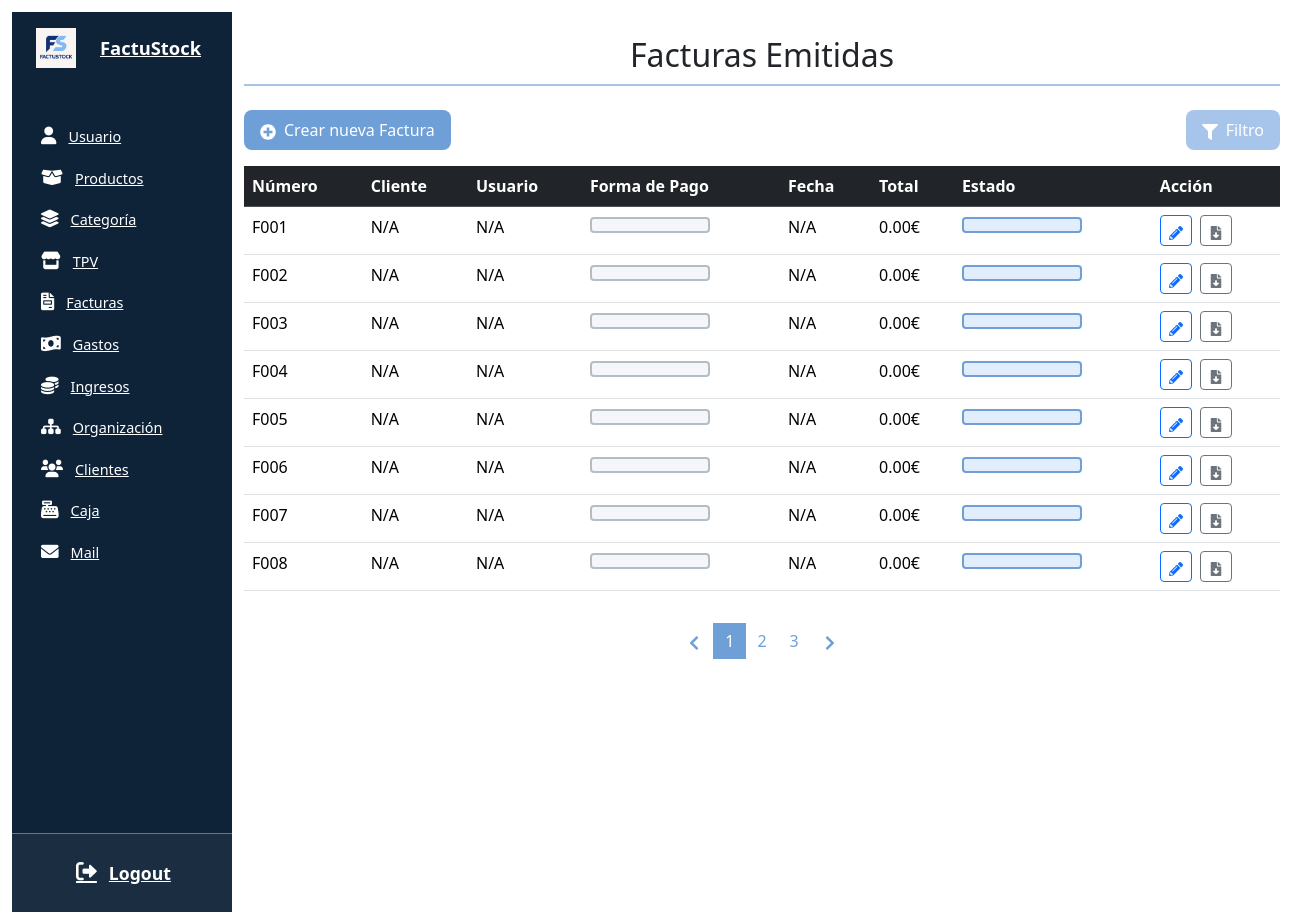
Test: FacturaComponent › handles pagination
expect the text "F001" is shown: met, box [244, 207, 363, 255]
Click the button "2".
click(762, 641)  # box [745, 623, 779, 659]
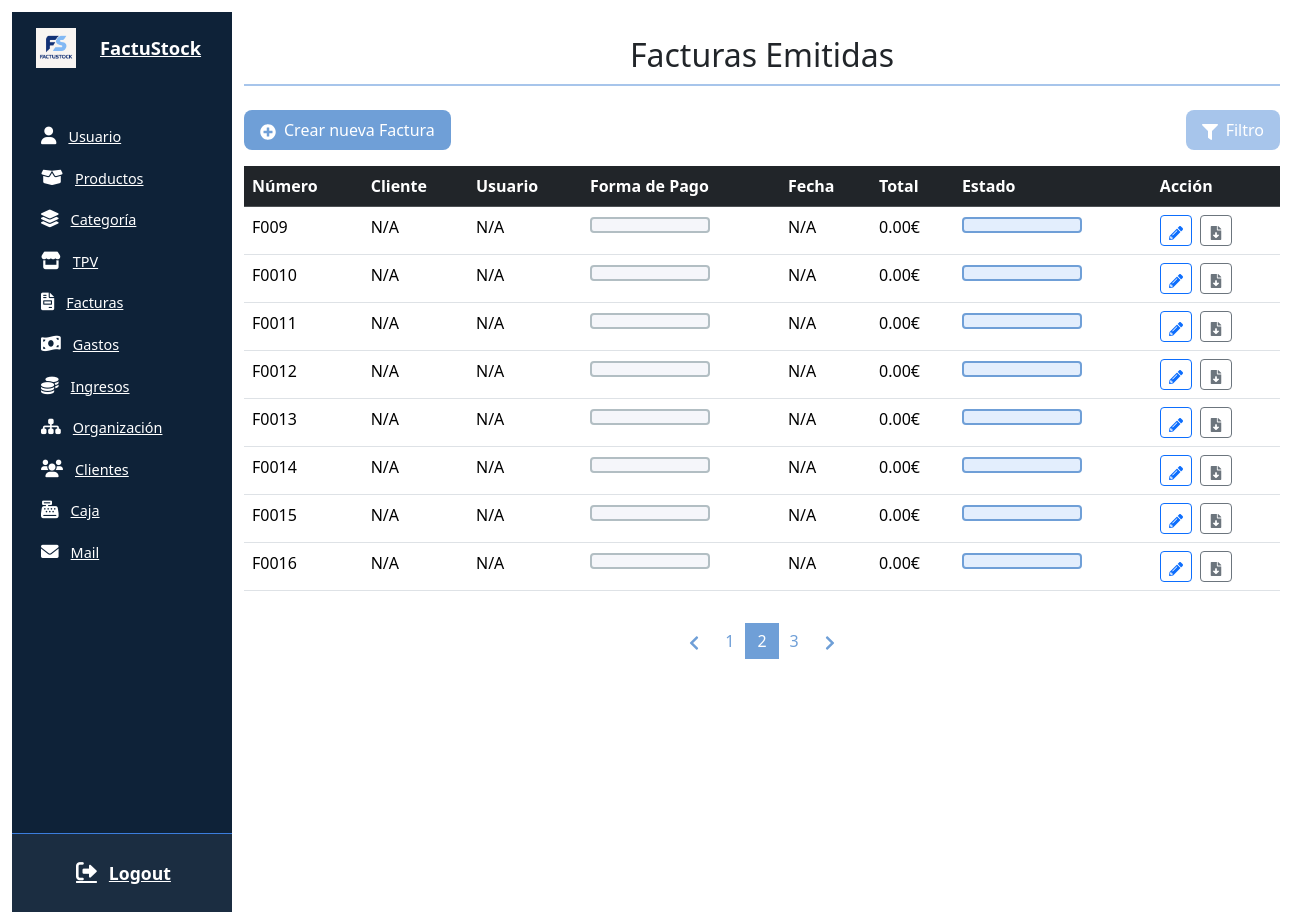
expect the text "F0010" is shown: met, box [244, 255, 363, 303]
